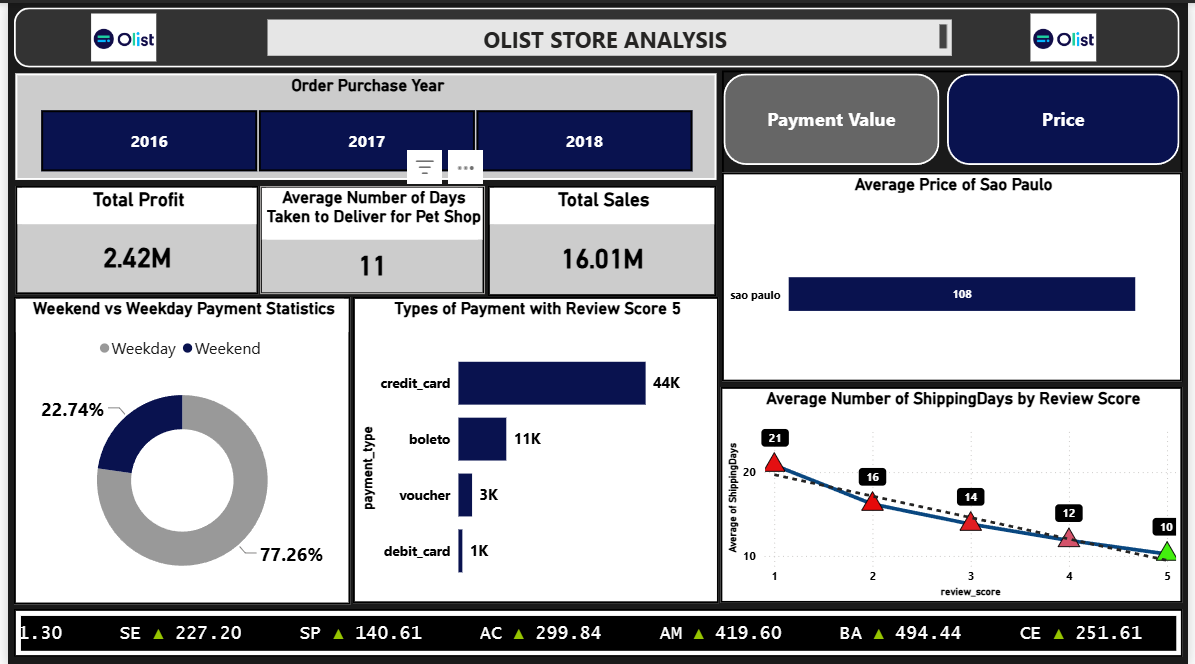

Layout of this report page (visuals, bound fields, positions):
{"tool":"powerbi","page":{"name":"Dashboard","canvas":[1280,720],"ordinal":6},"visuals":[{"type":"shape","box":[774.2,73.2,499.3,338.3],"z":0},{"type":"donutChart","title":"Weekend vs Weekday Payment Statistics","fields":{"Category":["olist_orders_dataset.Weekday_Weekend"],"Y":["olist_orders_dataset.Total_Payment_Value"]},"box":[6.5,318.8,364.3,333.4],"z":1000},{"type":"clusteredBarChart","title":"Types of Payment with Review Score 5","fields":{"Category":["olist_order_payments_dataset.payment_type","olist_order_reviews_dataset.review_score"],"Y":["CountNonNull(olist_order_payments_dataset.order_id)"]},"box":[374.1,318.8,396.9,331.8],"z":2000},{"type":"clusteredBarChart","title":"Average Price of Sao Paulo","fields":{"Category":["olist_customers_dataset.customer_city"],"Y":["Avg(olist_order_items_dataset.price)"]},"box":[775,183.3,498.3,226.7],"z":3000},{"type":"slicer","title":"Order Purchase Year","fields":{"Values":["olist_orders_dataset.order_purchase_timestamp.Variation.Date Hierarchy.Year"]},"box":[8.3,76.7,760,115],"z":4000},{"type":"lineChart","title":"Average Number of ShippingDays by Review Score","fields":{"Category":["olist_order_reviews_dataset.review_score"],"Y":["Avg(olist_orders_dataset.ShippingDays)"]},"box":[772.6,416.4,501,234.2],"z":5000},{"type":"card","title":"Average Number of Days Taken to Deliver for Pet Shop","fields":{"Values":["Avg(olist_orders_dataset.ShippingDays)"]},"box":[273.4,198.5,243,117.5],"z":6000},{"type":"card","title":"Total Sales","fields":{"Values":["Sum(olist_order_payments_dataset.payment_value)"]},"box":[520.5,198.5,247.1,119.5],"z":7000},{"type":"ScrollingTextVisual1448795304508","fields":{"Measure Deviation":["Avg(olist_order_payments_dataset.payment_value)"],"Category":["olist_geolocation_dataset.geolocation_state"]},"box":[6.5,657.1,1267.1,52],"z":8000},{"type":"shape","title":"Price Blue","box":[1018.2,76.4,252.1,99.2],"z":10000},{"type":"shape","title":"Payment Grey","box":[775.9,76.4,234.2,99.2],"z":12000},{"type":"shape","box":[6.5,4.9,1263.8,65.1],"z":14000},{"type":"textbox","box":[281.7,18.3,741.7,39],"z":15000},{"type":"image","box":[22.8,11.4,204.9,52],"z":16000},{"type":"image","box":[1039.4,11.4,209.8,52],"z":17000},{"type":"card","title":"Total Profit","fields":{"Values":["olist_order_payments_dataset.Total Profit"]},"box":[8.1,198.5,263.3,117.5],"z":18000}]}

Visuals, with their boxes in screenshot pixels (x1, y1, x2, y2), scaled from the page's 1280x720 canvas onto the 1195x664 screenshot:
shape: l=723, t=68, r=1189, b=379
"Weekend vs Weekday Payment Statistics" donutChart: l=6, t=294, r=346, b=601
"Types of Payment with Review Score 5" clusteredBarChart: l=349, t=294, r=720, b=600
"Average Price of Sao Paulo" clusteredBarChart: l=724, t=169, r=1189, b=378
"Order Purchase Year" slicer: l=8, t=71, r=717, b=177
"Average Number of ShippingDays by Review Score" lineChart: l=721, t=384, r=1189, b=600
"Average Number of Days Taken to Deliver for Pet Shop" card: l=255, t=183, r=482, b=291
"Total Sales" card: l=486, t=183, r=717, b=293
ScrollingTextVisual1448795304508 - Avg(olist_order_payments_dataset.payment_value) x olist_geolocation_dataset.geolocation_state: l=6, t=606, r=1189, b=654
"Price Blue" shape: l=951, t=70, r=1186, b=162
"Payment Grey" shape: l=724, t=70, r=943, b=162
shape: l=6, t=5, r=1186, b=65
textbox: l=263, t=17, r=955, b=53
image: l=21, t=11, r=213, b=58
image: l=970, t=11, r=1166, b=58
"Total Profit" card: l=8, t=183, r=253, b=291
